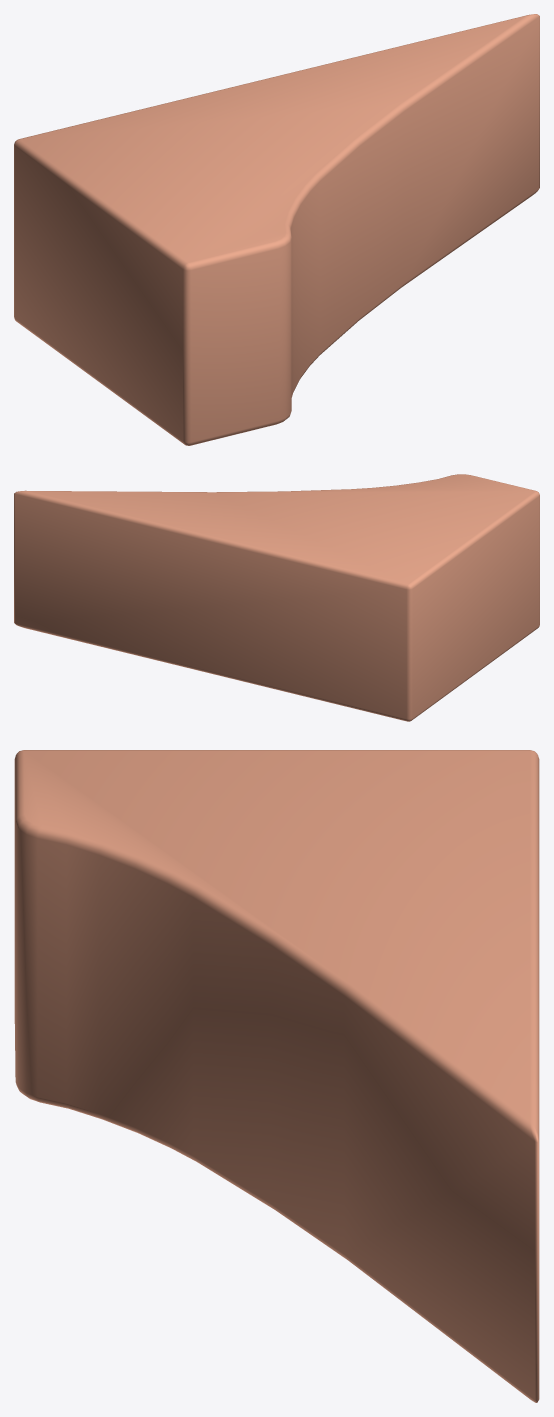
The model's file is island_lv14_2.fbx.
The picture shows the model from 3 angles, top to bottom: view 1: azimuth 30°, elevation 25°; view 2: azimuth 150°, elevation 25°; view 3: azimuth 270°, elevation 25°; orthographic projection. The views are drawn at different scales.
Visible parts, largest first — view 1: island_lv14_2; view 2: island_lv14_2; view 3: island_lv14_2.
Part boxes in pixels (left/top/right/bottom): island_lv14_2: left=14, top=14, right=539, bottom=445; island_lv14_2: left=14, top=474, right=539, bottom=721; island_lv14_2: left=14, top=750, right=539, bottom=1402.
Bounding box in the file's own units: 1510 × 500 × 864.
